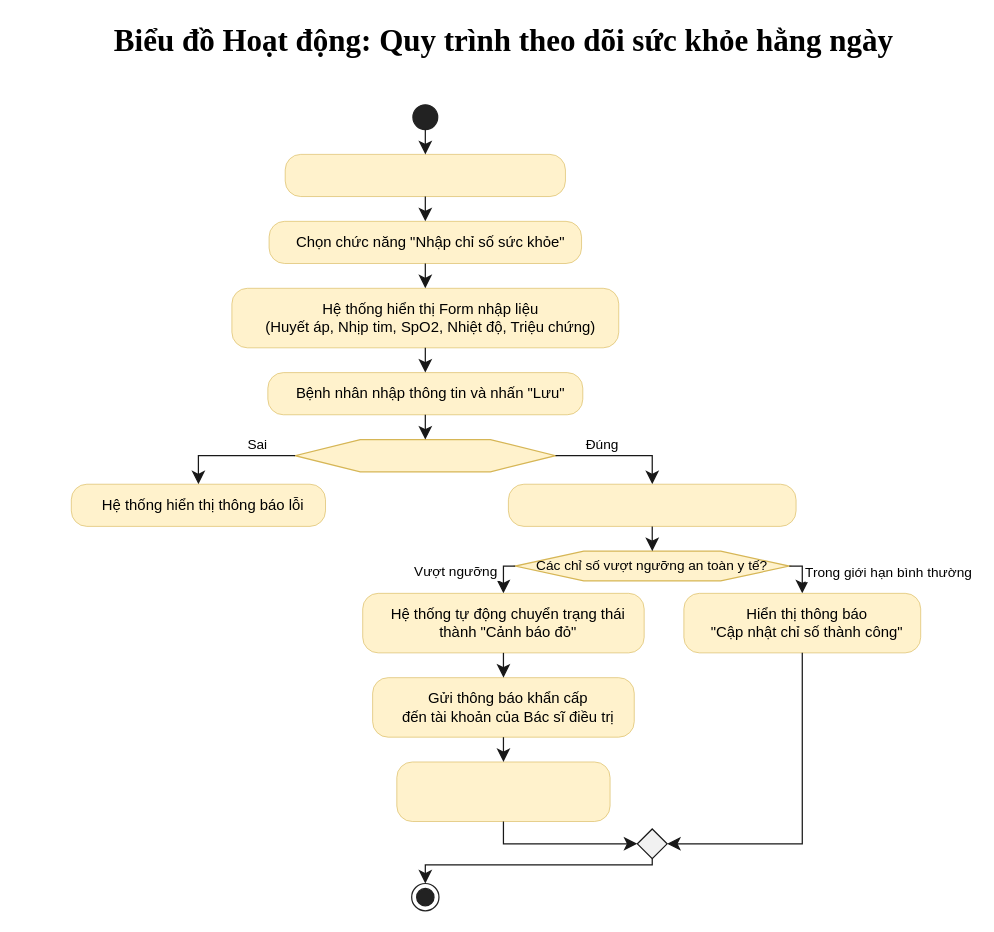
The diagram is 994 pixels wide and 932 high, and some of its shapes have lost their labels. The shapes that lost their labels are listed below. From the top down, each one's centre as x and y in pixels, then its label:
(x=424, y=175): Bệnh nhân đăng nhập vào hệ thống
(x=425, y=455): Dữ liệu hợp lệ (Đúng định dạng, không bỏ trống)?
(x=652, y=504): Hệ thống lưu bản ghi vào SQL Server
(x=503, y=791): Hiển thị khuyến cáo y tế nguy hiểm cho bệnh nhân
